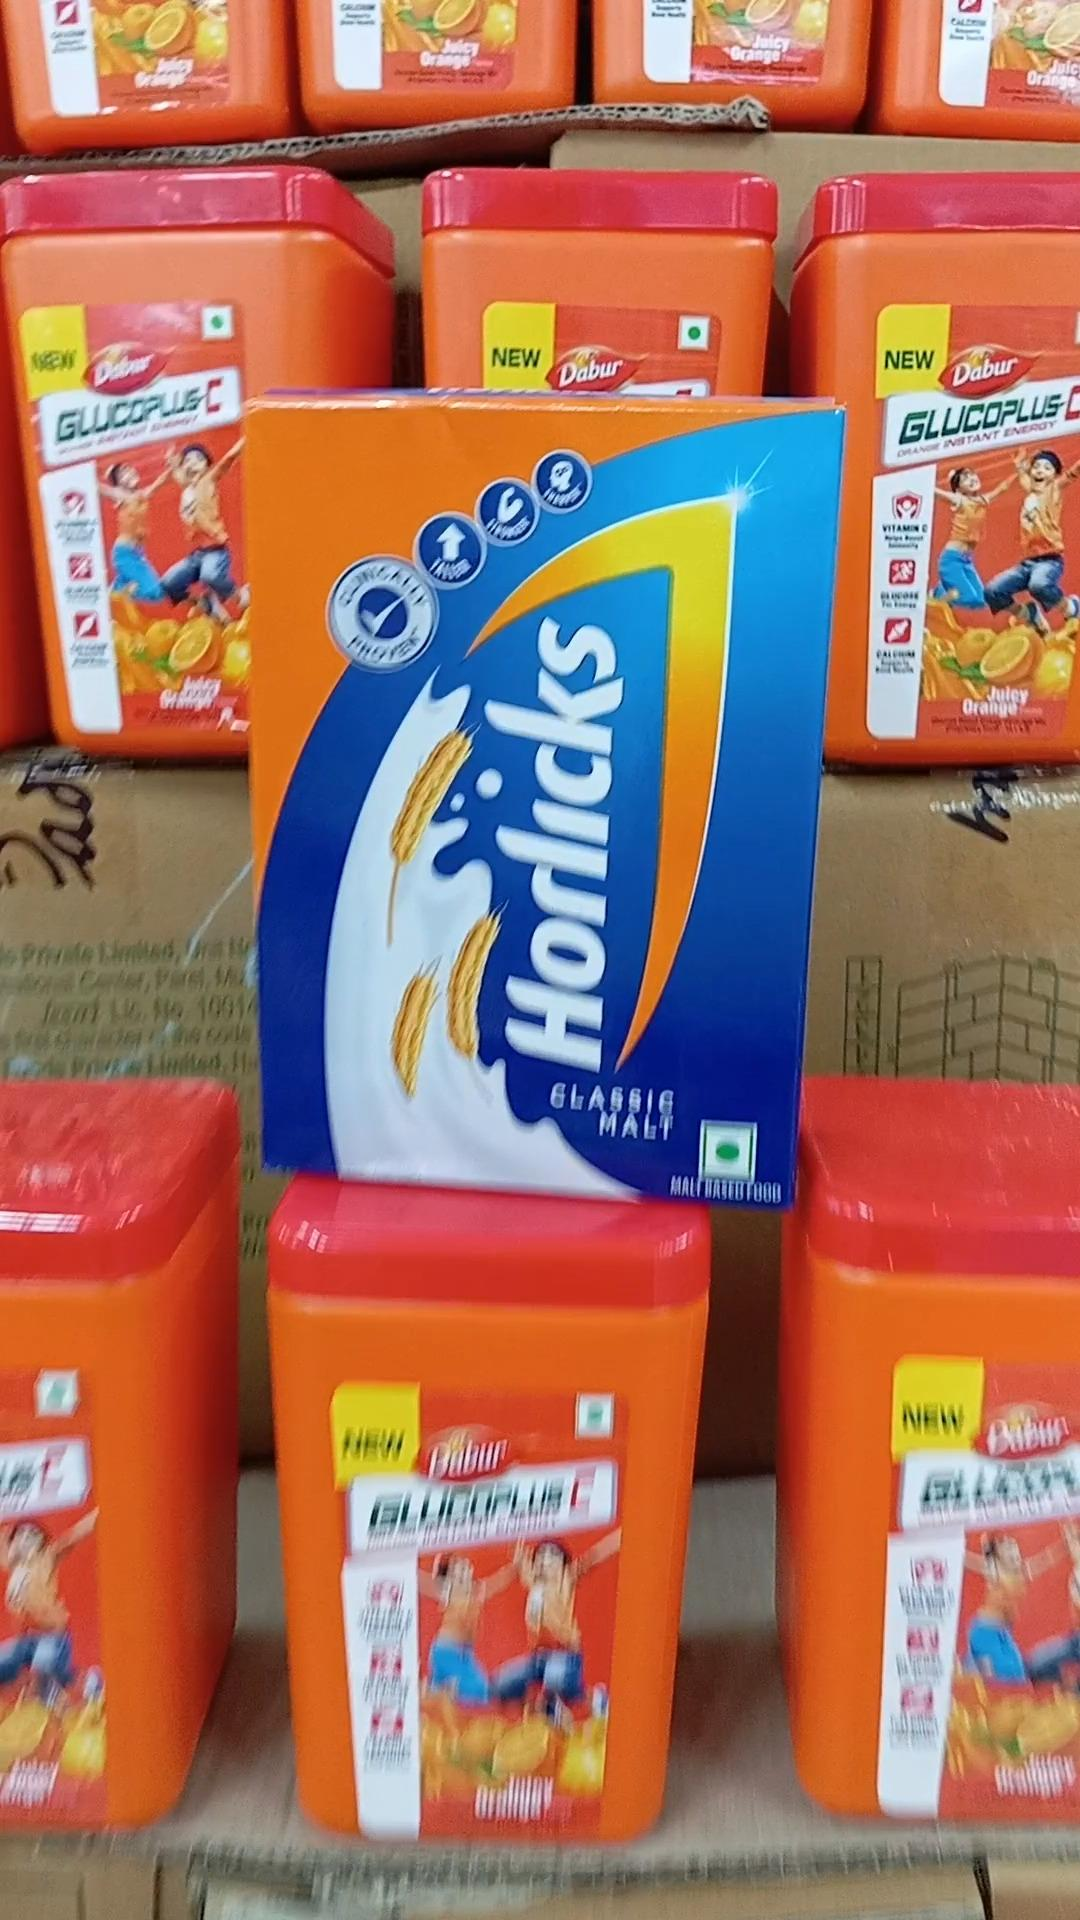HORLICK_CLASSIC_MALT_500_G_PACK: (251, 405, 832, 1203)
